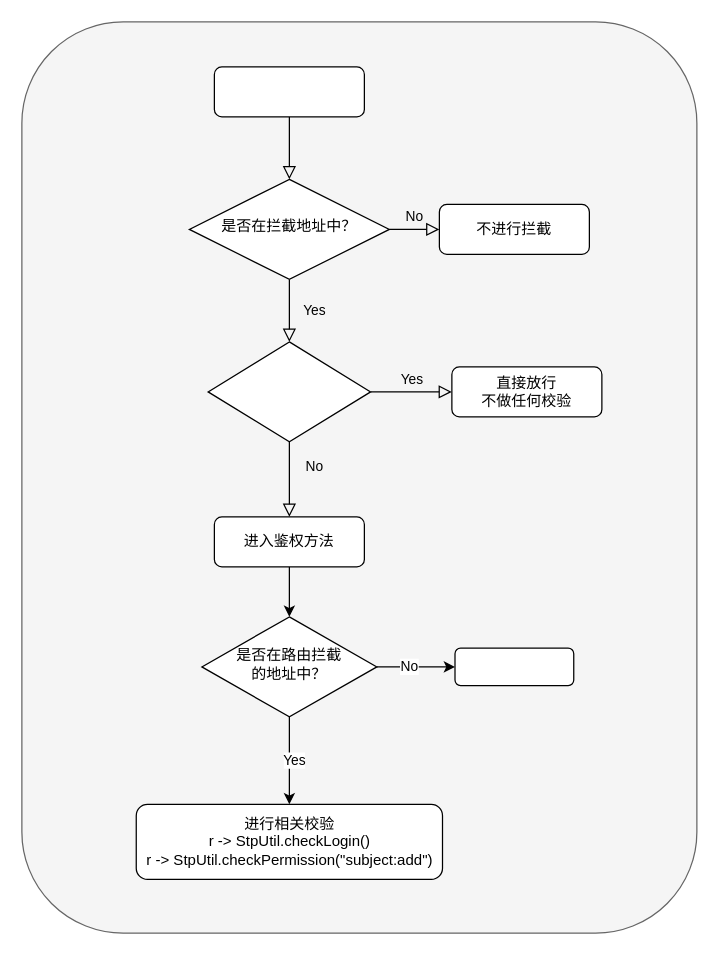
This 719x955 diagram has some shape labels left out. The shapes that lost their labels are listed below. From the top down, each one's centre as x and y in pixels, then its label:
At pixel 288 91: "Sa-token全局过滤器".
At pixel 289 391: "是否在放行地址中？".
At pixel 514 666: "不进行校验".
